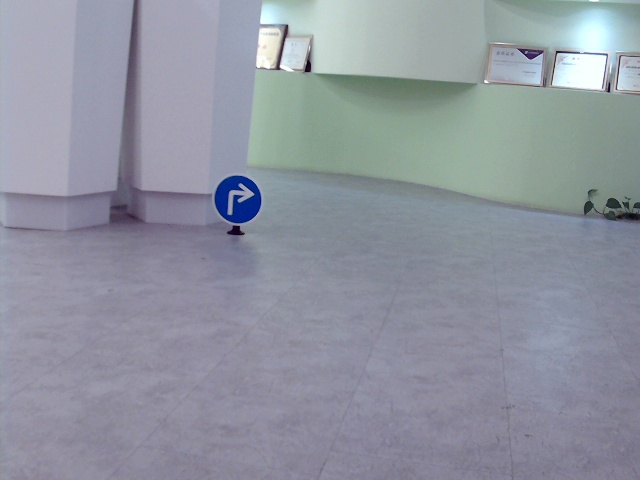turn_right: (225, 180, 252, 214)
